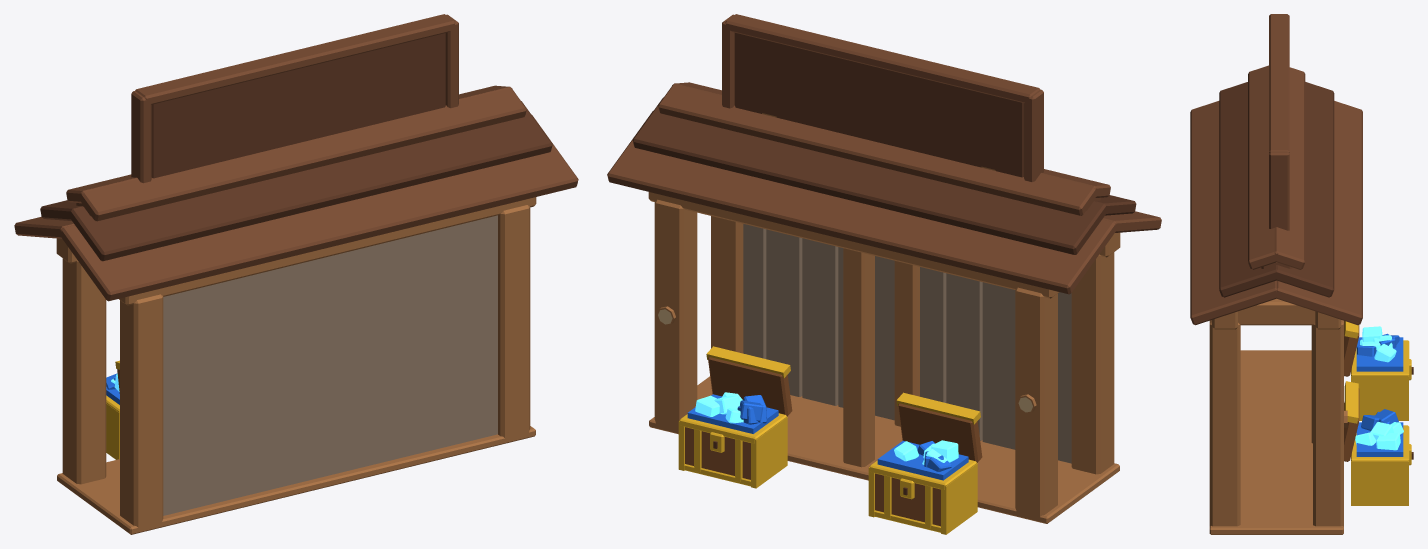
The model's file is rewards_stall.glb.
3 views of the same model, side by side, from view 1: azimuth 30°, elevation 25°; view 2: azimuth 150°, elevation 25°; view 3: azimuth 270°, elevation 25° (orthographic). The views are drawn at different scales.
Visible parts, largest first — view 1: WoodPlanks__96806C, WoodPlanks__784A30, WoodPlanks__603A26, Wood__A87042, SmoothPlastic__F0BA28; view 2: Wood__A87042, WoodPlanks__784A30, WoodPlanks__603A26, WoodPlanks__96806C, SmoothPlastic__F0BA28, Wood__8E562E, SmoothPlastic__2878F5, Neon__46A0FF; view 3: Wood__A87042, WoodPlanks__784A30, WoodPlanks__603A26, SmoothPlastic__F0BA28, SmoothPlastic__2878F5, Neon__46A0FF, Wood__8E562E.
Boxes of the visible parts, bbox=[...] form: WoodPlanks__96806C: bbox=[163, 215, 497, 515]; WoodPlanks__784A30: bbox=[14, 14, 578, 301]; WoodPlanks__603A26: bbox=[40, 33, 552, 261]; Wood__A87042: bbox=[56, 197, 536, 534]; SmoothPlastic__F0BA28: bbox=[106, 360, 119, 459]; Wood__A87042: bbox=[648, 113, 1120, 523]; WoodPlanks__784A30: bbox=[607, 14, 1161, 294]; WoodPlanks__603A26: bbox=[632, 33, 1136, 495]; WoodPlanks__96806C: bbox=[743, 224, 1071, 463]; SmoothPlastic__F0BA28: bbox=[678, 346, 980, 534]; Wood__8E562E: bbox=[685, 357, 982, 526]; SmoothPlastic__2878F5: bbox=[687, 394, 968, 480]; Neon__46A0FF: bbox=[695, 392, 958, 464]; Wood__A87042: bbox=[1209, 298, 1347, 534]; WoodPlanks__784A30: bbox=[1190, 14, 1362, 325]; WoodPlanks__603A26: bbox=[1219, 82, 1413, 459]; SmoothPlastic__F0BA28: bbox=[1344, 321, 1411, 505]; SmoothPlastic__2878F5: bbox=[1356, 333, 1403, 456]; Neon__46A0FF: bbox=[1355, 326, 1403, 450]; Wood__8E562E: bbox=[1344, 321, 1359, 461].
Size of the model in its own units: 19 by 15.55 by 8.64.
